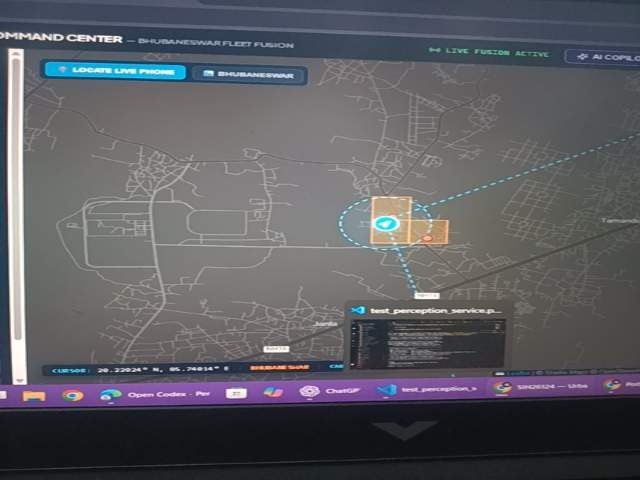pothole: (105, 404, 314, 480)
